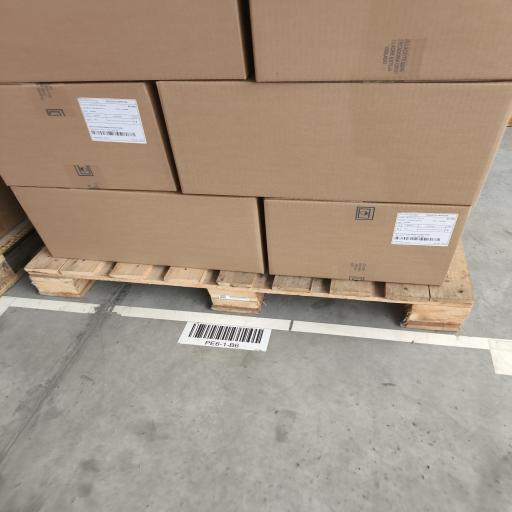pallet: (26, 243, 474, 331), (0, 219, 43, 296)
